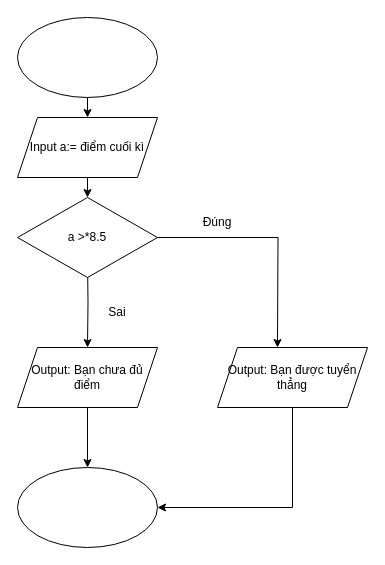
Some shapes in this 385 by 565 pixel diagram are drawn without their labels. Each missing label, with the centre of its shape:
"End" goes at point (87, 507).
"Start" goes at point (87, 57).
